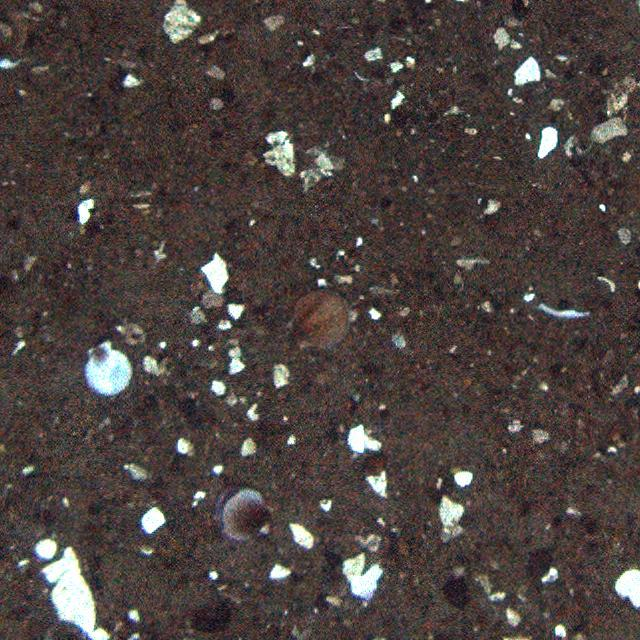scallop: (287, 285, 352, 357)
